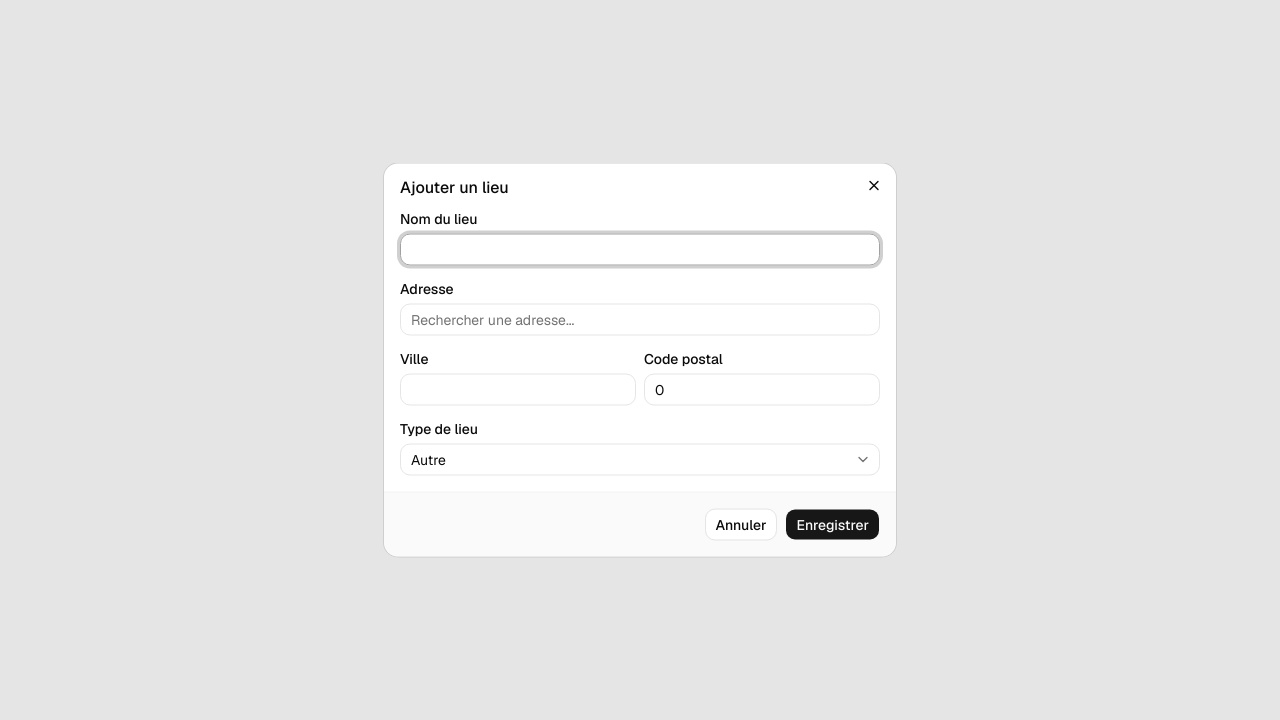
Test: AddLocationModal › fills form when address suggestion is clicked
Type "Test Address" into the field with placeholder "Rechercher une adresse...".
click(640, 320); type("Test Address")  # box [400,304,880,336]
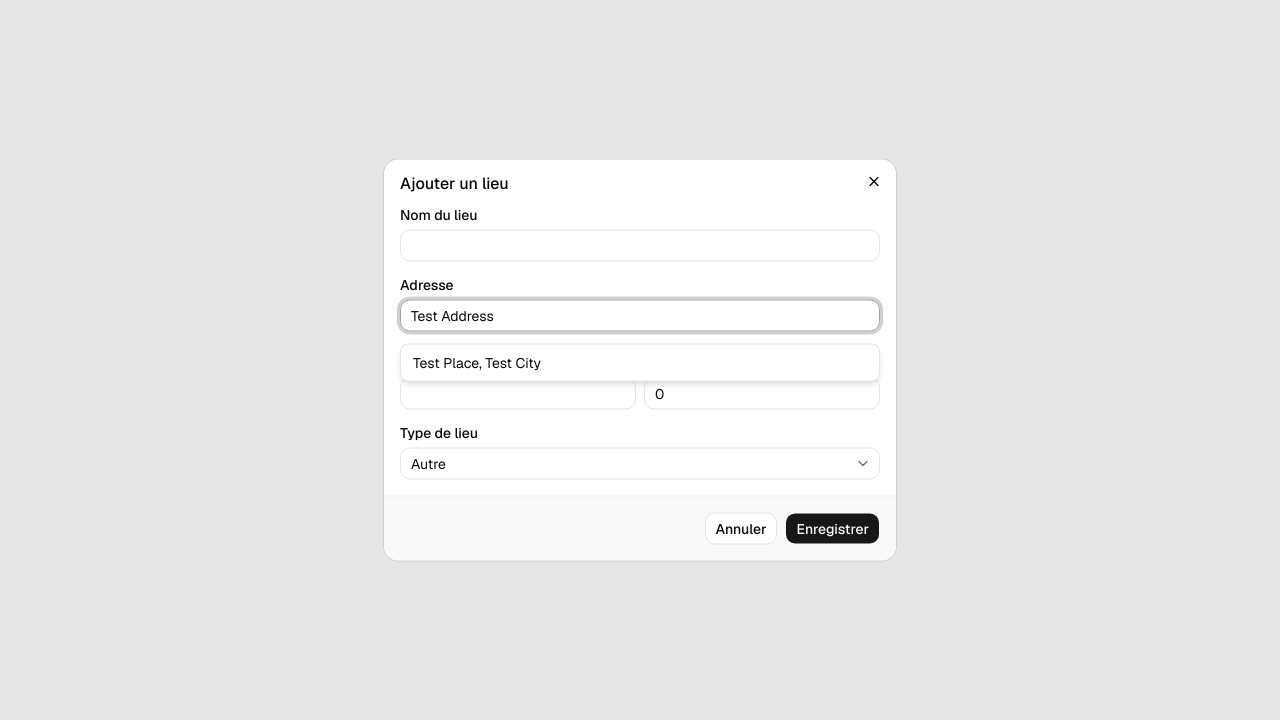
Expected: the list item "Test Place, Test City" is shown
Click the list item "Test Place, Test City".
click(477, 362)  # box [413,354,541,372]
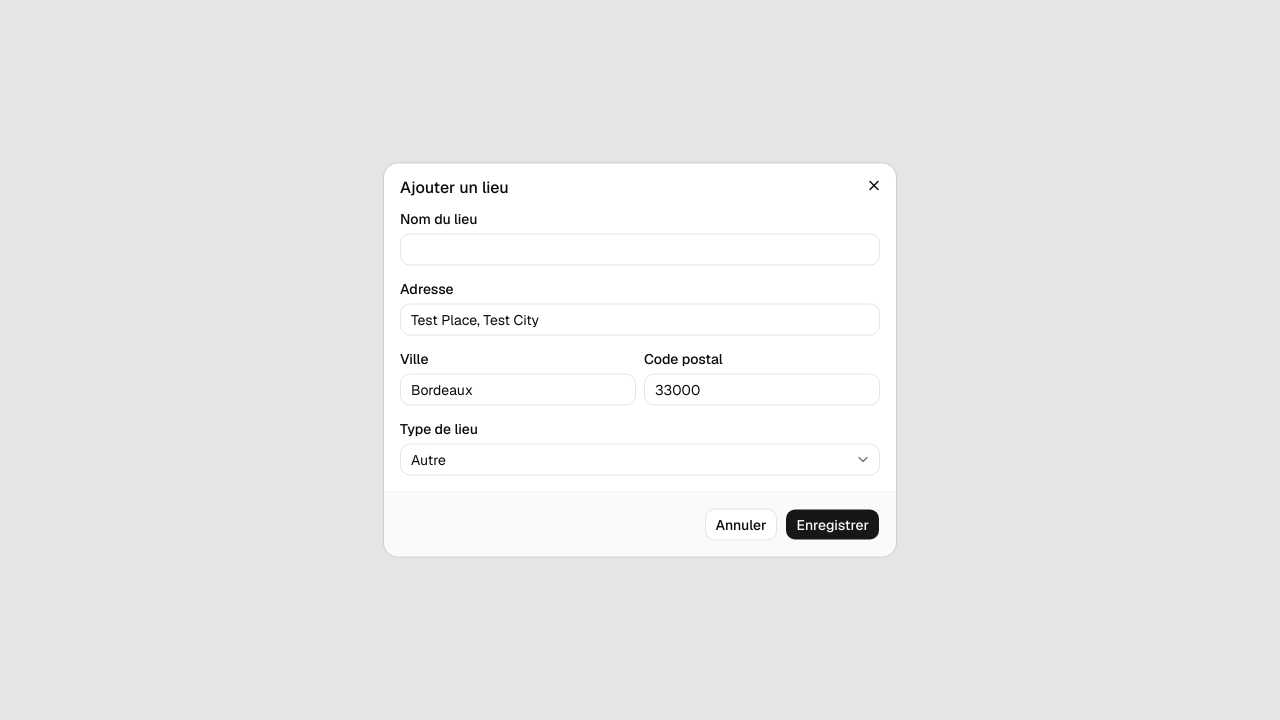
Expected: the field showing "Bordeaux" is shown, [400,374,636,406]
Expected: the field showing "33000" is shown, [644,374,880,406]
